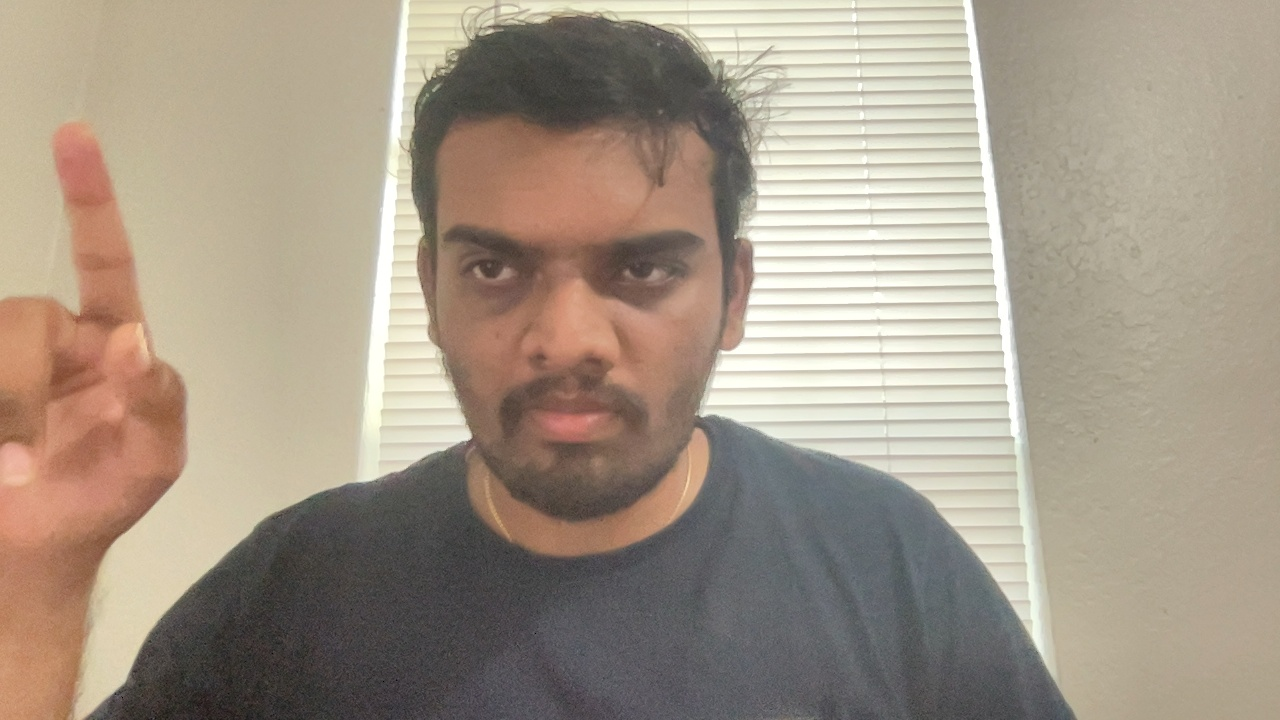i love you: (1, 128, 205, 556)
